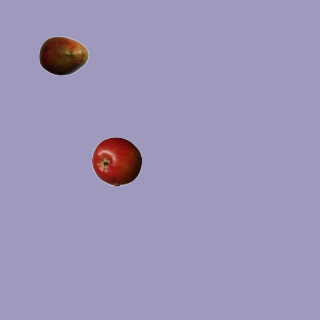Apple Braeburn: (91, 136, 141, 186)
Mango Red: (38, 30, 88, 80)
